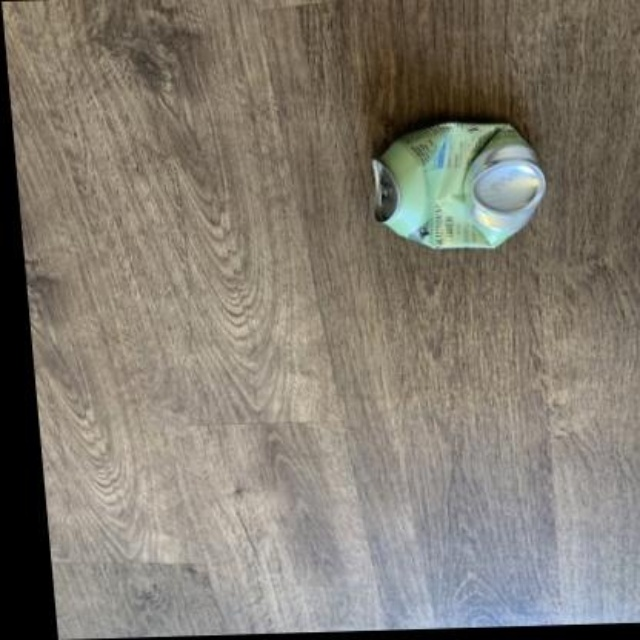trash: (372, 123, 545, 248)
